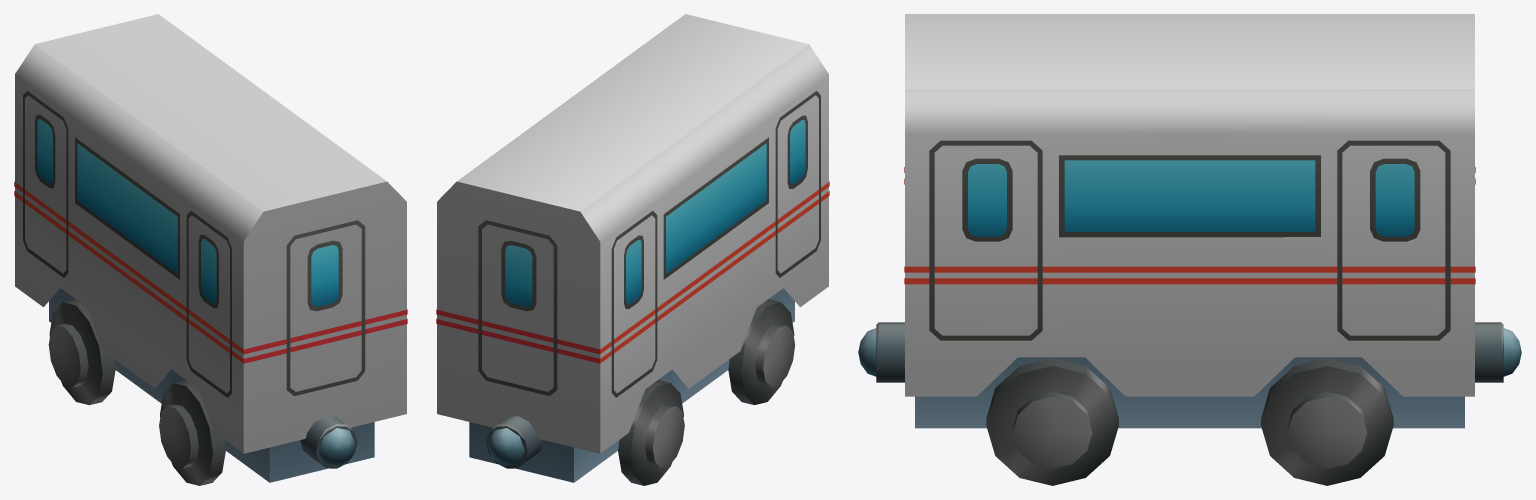
File: Electric_Express_Pass.fbx
The picture shows the model from 3 angles, left to right: view 1: azimuth 30°, elevation 25°; view 2: azimuth 150°, elevation 25°; view 3: azimuth 270°, elevation 25°; orthographic projection. The views are drawn at different scales.
Visible parts, largest first — view 1: Electric_Express_Pass; view 2: Electric_Express_Pass; view 3: Electric_Express_Pass.
Boxes of the visible parts, x1,y1,x2,y2 form: Electric_Express_Pass: (14,14,407,485); Electric_Express_Pass: (436,14,829,485); Electric_Express_Pass: (858,14,1521,485).
Bounding box in the file's own units: 276 × 449 × 699.
